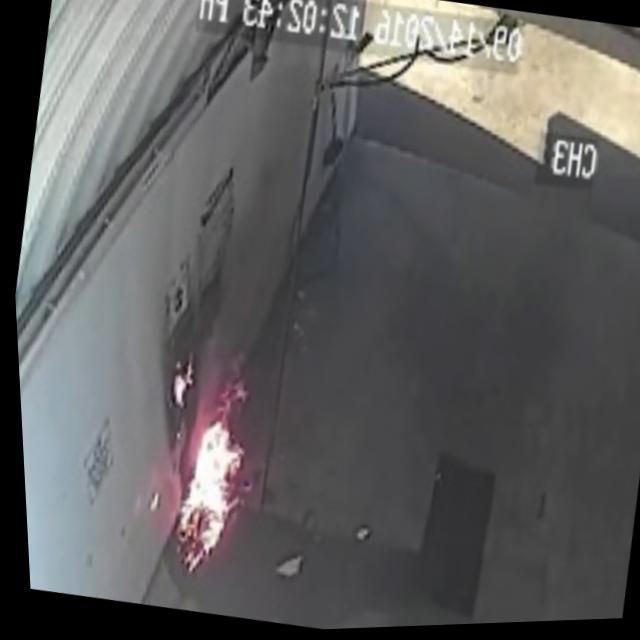fire: (157, 417, 254, 579)
